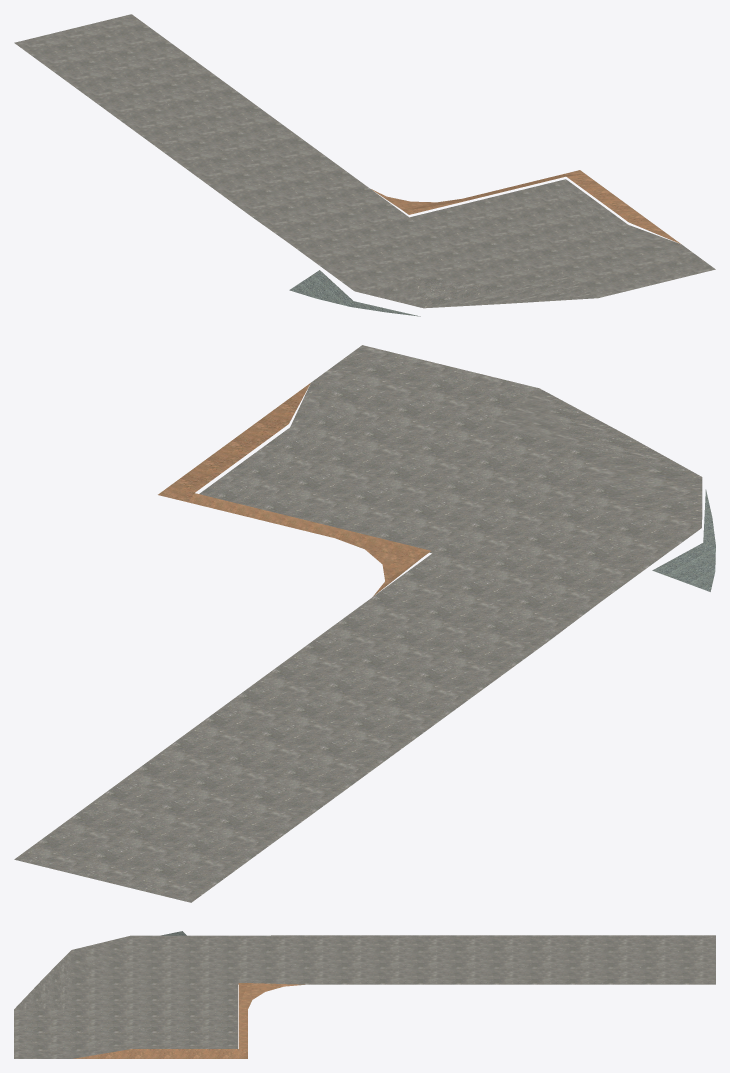
Rendered from vegaswedge29.obj.
3 renders of one model, top to bottom at view 1: azimuth 30°, elevation 25°; view 2: azimuth 150°, elevation 25°; view 3: azimuth 270°, elevation 25°, orthographic. The views are drawn at different scales.
Parts seen in each view (by area): view 1: vegasWedge29; view 2: vegasWedge29; view 3: vegasWedge29.
Boxes of the visible parts, x1,y1,x2,y2 form: vegasWedge29: (14,14,715,316); vegasWedge29: (14,345,715,902); vegasWedge29: (14,931,715,1058).
Bounding box in the file's own units: 112 × 4.66 × 240.
Materials: 3 (3 with a texture image).
